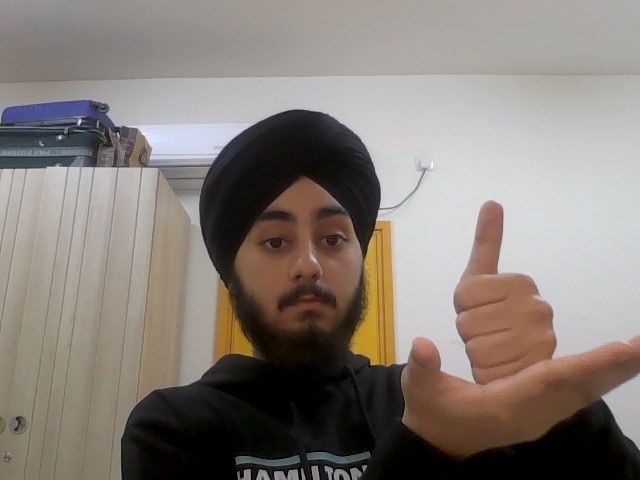Help: (401, 196, 640, 457)
